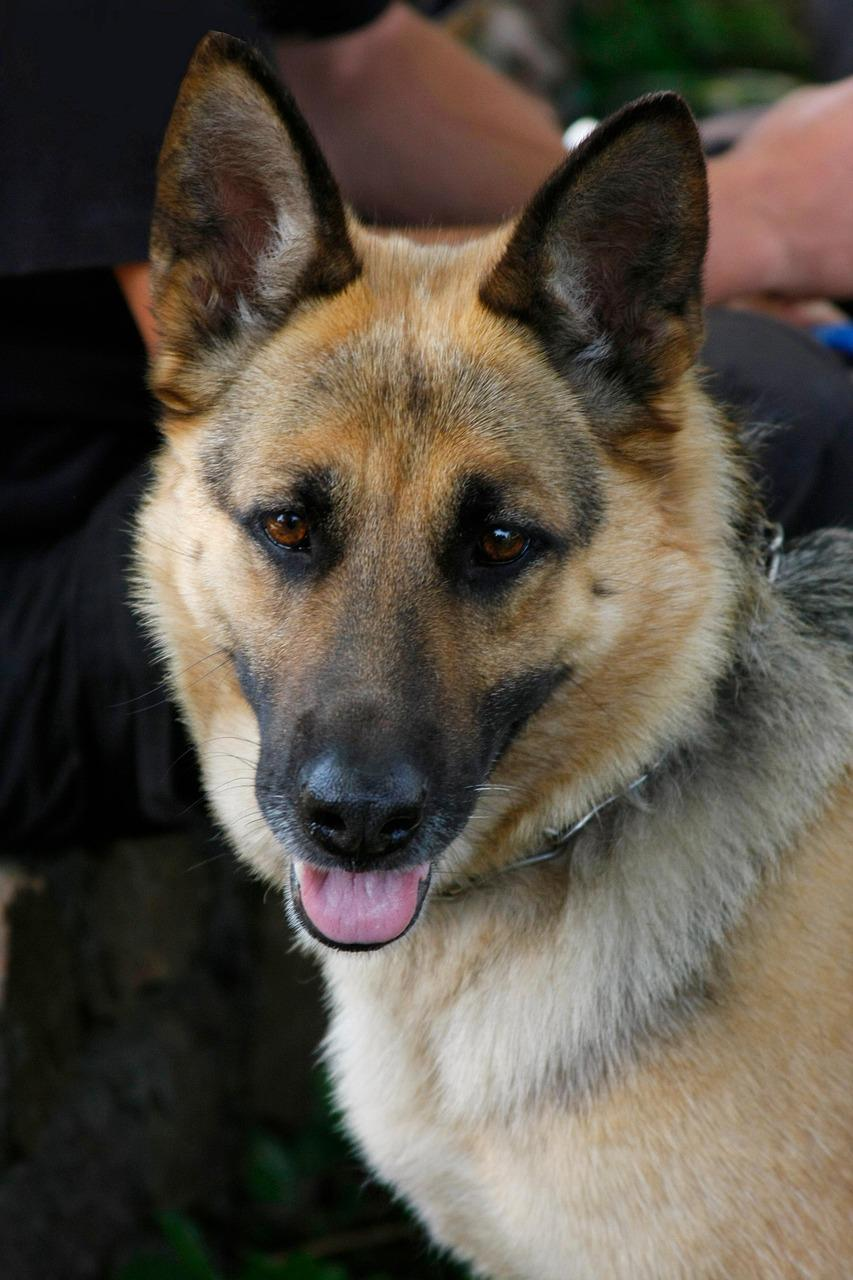german_shepherd: (80, 46, 770, 989)
